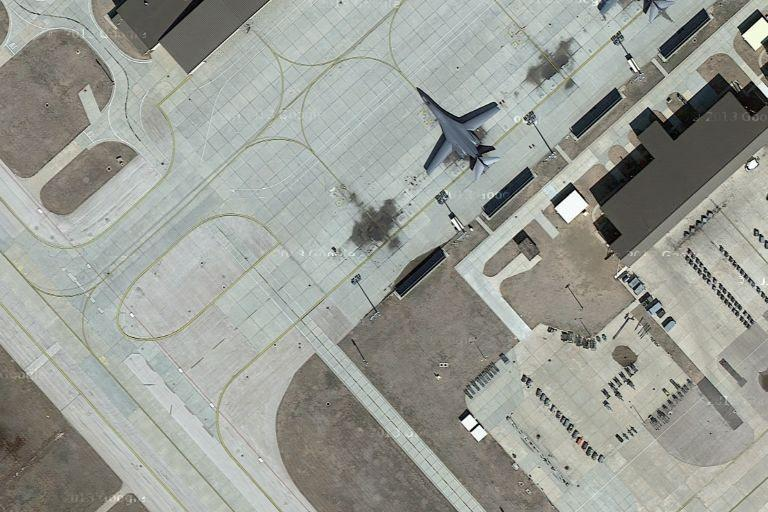B-1B: (413, 84, 502, 175)
